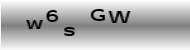6: (45, 9, 59, 22)
G: (90, 8, 105, 21)
W: (108, 10, 130, 23)
s: (63, 26, 75, 36)
w: (25, 18, 43, 29)
